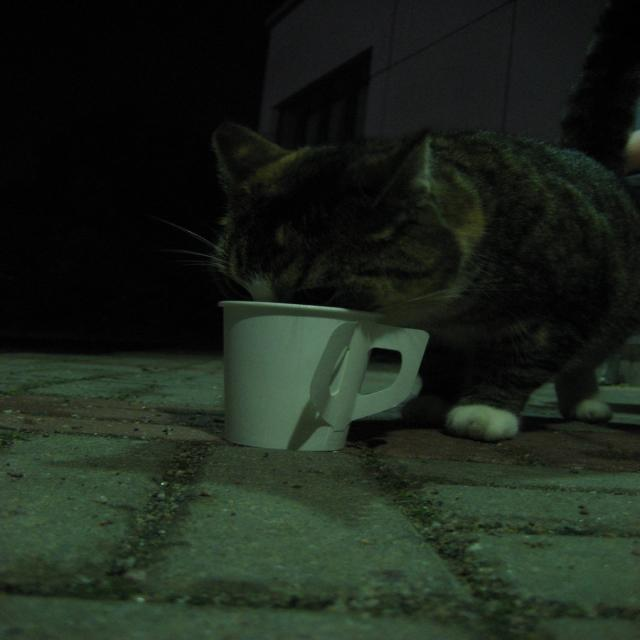Cat: (194, 107, 640, 451)
Cup: (194, 287, 432, 471)
